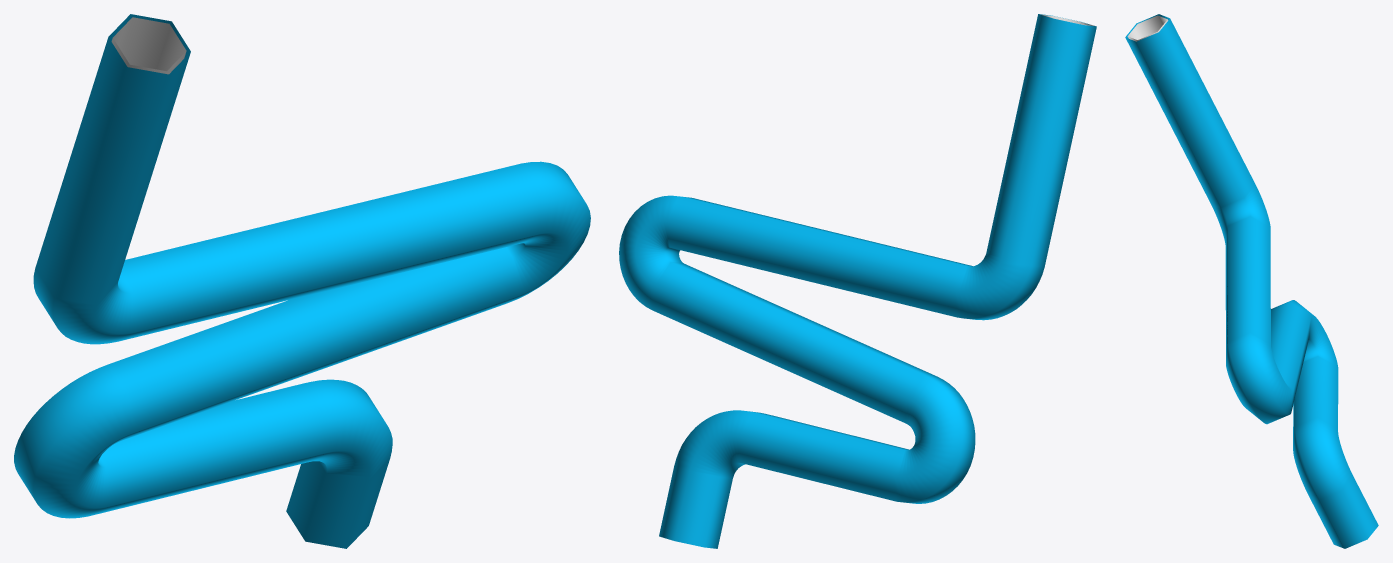
The model's file is TubeMesh_20251127_100711.fbx.
3 views of the same model, side by side, from view 1: azimuth 30°, elevation 25°; view 2: azimuth 150°, elevation 25°; view 3: azimuth 270°, elevation 25° (orthographic). The views are drawn at different scales.
Visible parts, largest first — view 1: TubeMesh_20251127_100711; view 2: TubeMesh_20251127_100711; view 3: TubeMesh_20251127_100711.
Boxes of the visible parts, x1=… form: TubeMesh_20251127_100711: x1=14, y1=14, x2=590, y2=548; TubeMesh_20251127_100711: x1=619, y1=14, x2=1096, y2=548; TubeMesh_20251127_100711: x1=1125, y1=14, x2=1378, y2=548.
Size of the model in its own units: 713 by 887 by 480.
